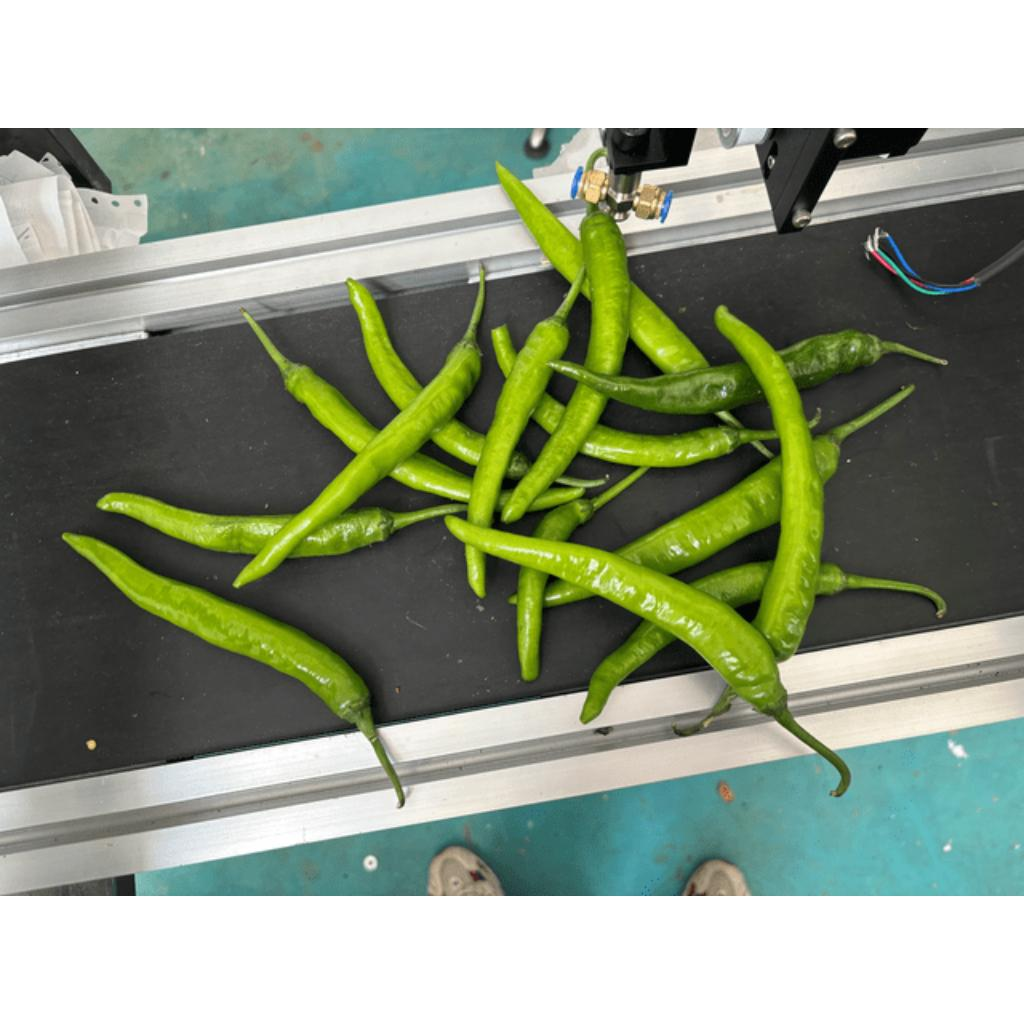chili: (438, 515, 791, 721), (230, 339, 488, 596), (501, 430, 848, 611), (58, 531, 374, 726), (494, 157, 733, 414), (280, 361, 590, 514), (578, 559, 847, 731), (711, 300, 828, 665), (488, 319, 748, 471), (342, 273, 532, 477), (466, 313, 573, 606), (543, 329, 883, 418), (88, 490, 400, 561), (515, 497, 596, 686)
